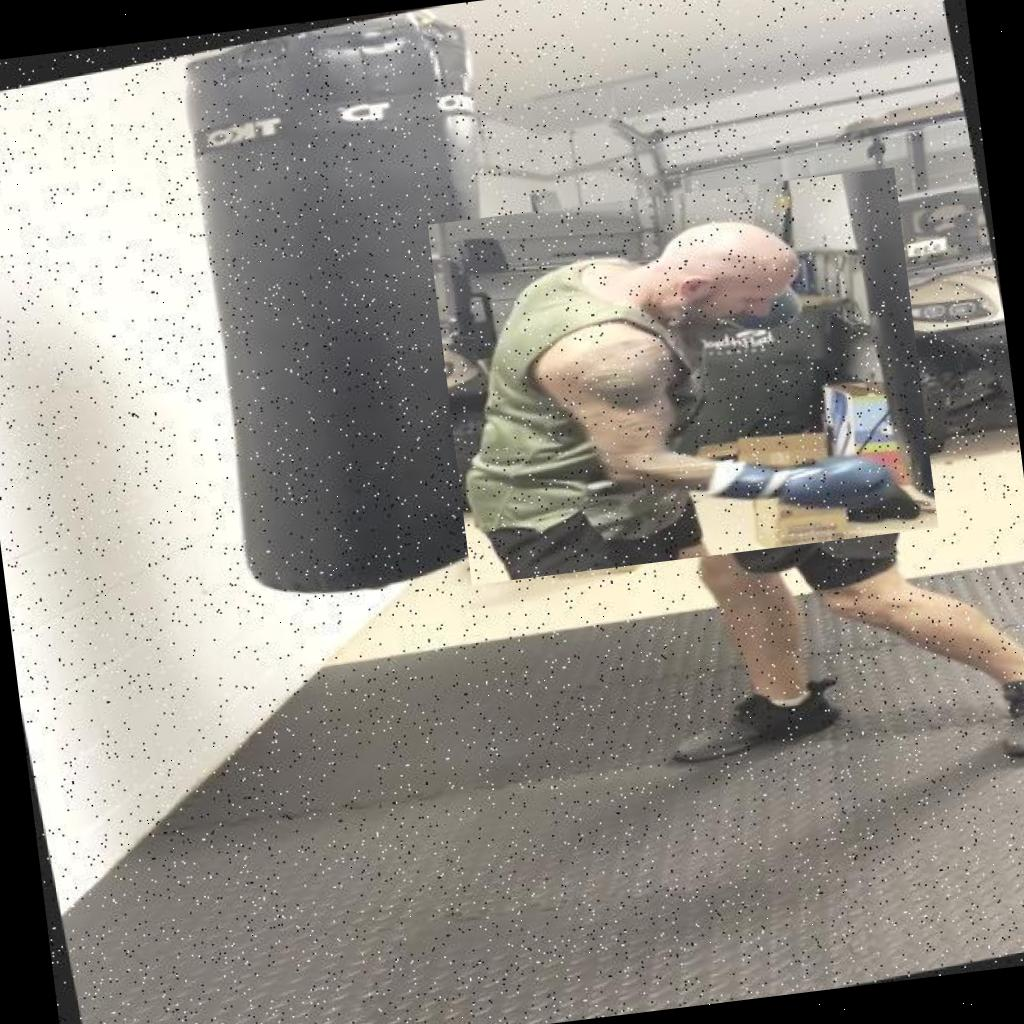bag: (107, 0, 550, 630)
uppercut: (428, 167, 938, 584)
